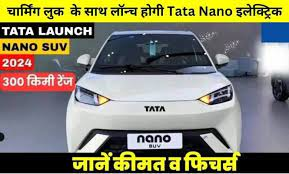Nano: (66, 29, 242, 154)
